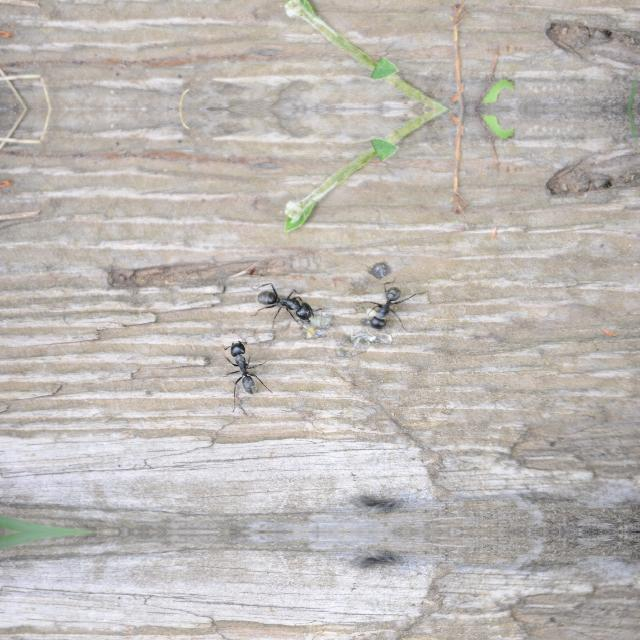Camponotus: (208, 327, 276, 409), (246, 274, 326, 330), (353, 278, 412, 332)
